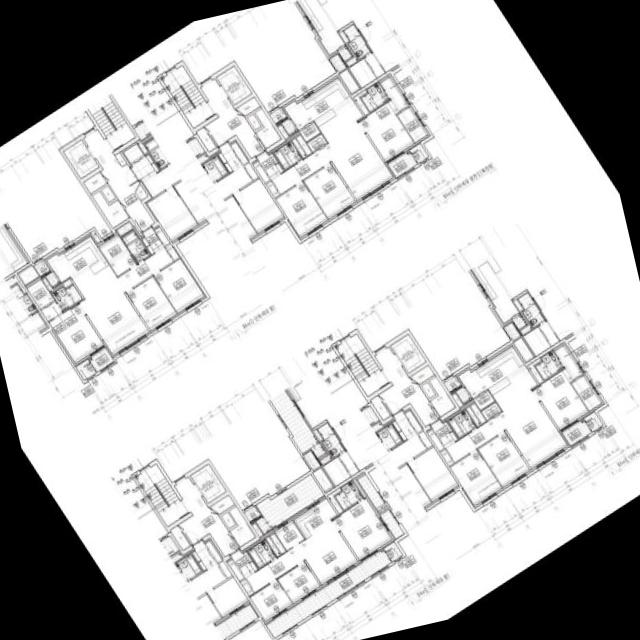background: (0, 0, 640, 640)
space_balconi: (266, 549, 391, 637), (256, 473, 324, 528), (357, 473, 404, 538), (388, 150, 417, 177), (562, 419, 591, 445), (88, 348, 114, 371)
space_bedroom: (333, 498, 392, 559), (49, 303, 104, 363), (533, 370, 588, 429), (359, 102, 414, 161), (450, 450, 502, 505), (478, 432, 530, 487), (276, 181, 327, 237), (304, 163, 355, 219), (154, 258, 204, 312), (127, 276, 177, 330), (278, 561, 320, 603), (250, 579, 292, 621), (98, 234, 136, 276)
space_dressroom: (554, 344, 602, 410), (380, 76, 427, 142), (27, 279, 62, 321)
space_elevator: (216, 65, 252, 104), (63, 139, 99, 178), (390, 334, 426, 372), (190, 464, 226, 502)
space_elevator_hall: (83, 129, 155, 231), (200, 78, 265, 158), (174, 477, 239, 556), (375, 347, 439, 426)
space_front: (231, 549, 258, 578), (257, 151, 284, 179), (431, 419, 458, 447), (141, 227, 164, 255)
space_kitchen: (47, 235, 117, 298), (458, 346, 524, 398), (284, 77, 349, 129), (294, 498, 337, 539)
space_living_room: (272, 95, 393, 200), (446, 364, 567, 468), (79, 247, 173, 354), (246, 522, 358, 591)
space_other: (92, 190, 129, 227), (429, 376, 456, 416), (255, 108, 281, 148), (229, 506, 255, 546), (275, 520, 304, 550), (196, 127, 216, 151), (370, 395, 390, 419), (170, 525, 190, 549), (410, 364, 435, 383), (84, 172, 106, 193), (236, 96, 260, 115), (210, 494, 234, 513), (353, 89, 369, 115), (327, 487, 343, 513), (527, 358, 543, 383), (76, 359, 96, 379), (473, 390, 494, 409), (299, 122, 320, 141), (410, 143, 429, 163), (584, 411, 603, 431), (427, 429, 444, 451), (253, 160, 270, 182), (19, 265, 38, 284), (481, 402, 501, 420), (384, 541, 402, 561), (227, 559, 244, 580), (307, 134, 327, 151), (470, 403, 486, 423), (270, 533, 285, 553), (466, 406, 481, 426), (296, 135, 311, 155), (281, 118, 298, 135), (42, 278, 62, 292), (266, 536, 280, 556), (456, 386, 472, 403), (292, 138, 306, 157), (255, 517, 271, 533), (155, 227, 169, 245), (45, 271, 60, 287), (421, 381, 435, 398), (247, 113, 261, 129), (440, 449, 454, 465), (101, 185, 115, 201), (221, 512, 235, 528), (266, 181, 279, 197), (240, 579, 253, 595), (166, 244, 179, 260), (135, 183, 147, 200), (118, 222, 132, 235), (278, 124, 289, 138), (115, 152, 126, 166), (252, 523, 263, 536), (452, 393, 463, 406), (91, 230, 100, 242), (63, 278, 72, 287)
space_outdoor_room: (33, 259, 49, 276), (444, 375, 460, 391), (270, 107, 286, 123), (244, 505, 260, 521)
space_staircase: (336, 333, 389, 396), (162, 65, 214, 128), (136, 463, 188, 526), (83, 87, 135, 149)
space_toilet: (121, 230, 149, 262), (447, 409, 477, 438), (273, 140, 302, 169), (535, 350, 563, 379), (361, 82, 389, 111), (335, 480, 363, 509), (248, 539, 276, 567), (52, 284, 82, 310)
